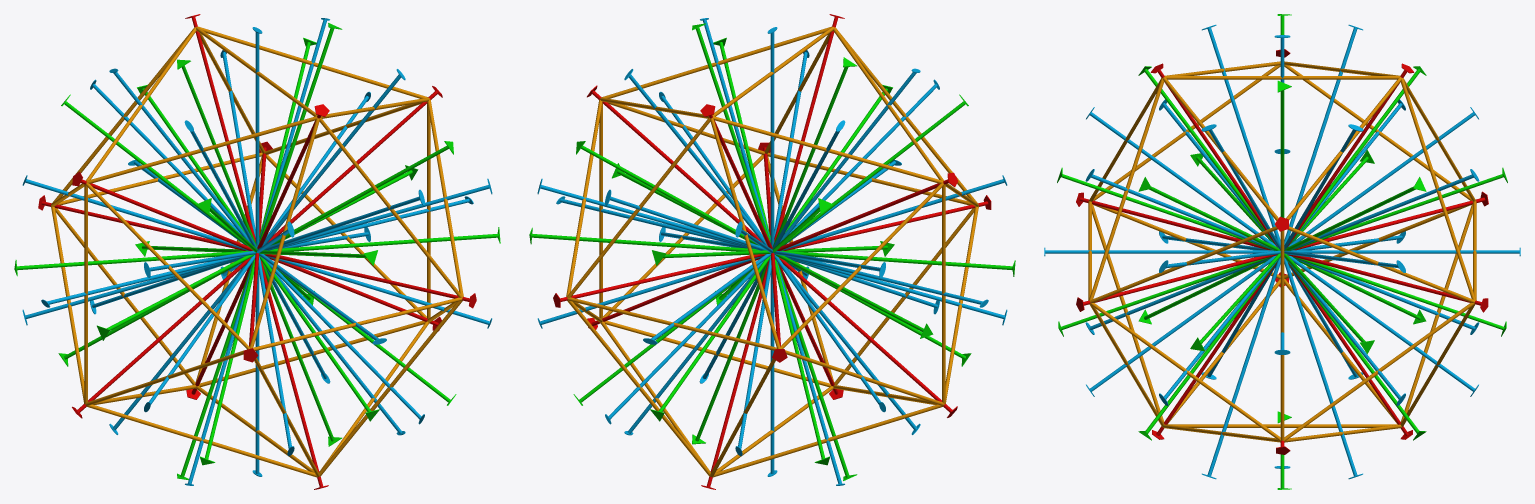
3 renders of one model, left to right at view 1: azimuth 30°, elevation 25°; view 2: azimuth 150°, elevation 25°; view 3: azimuth 270°, elevation 25°, orthographic. The views are drawn at different scales.
Bounding box in the file's own units: 336 × 336 × 336.
